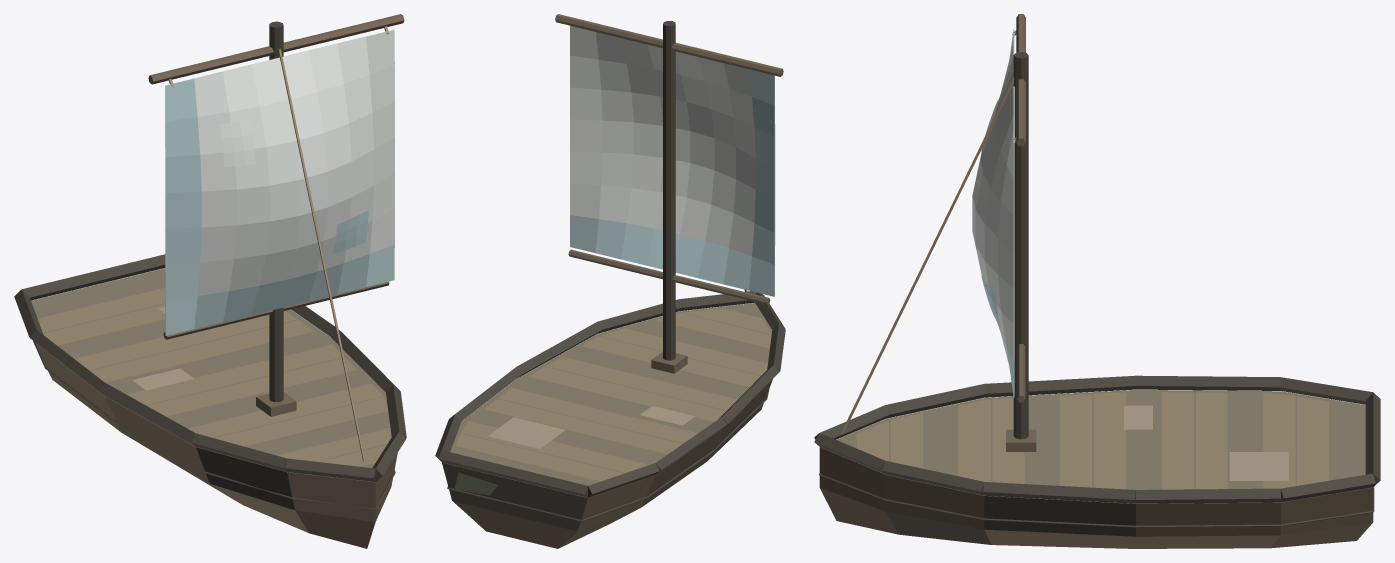
File: wind_sailboat.glb
The picture shows the model from 3 angles, left to right: view 1: azimuth 30°, elevation 25°; view 2: azimuth 150°, elevation 25°; view 3: azimuth 270°, elevation 25°; orthographic projection. The views are drawn at different scales.
Visible parts, largest first — view 1: Game_Sail, Game_Deck, Game_Hull, Game_Yards, Game_Mast, Game_Rigging; view 2: Game_Sail, Game_Deck, Game_Hull, Game_Mast, Game_Yards; view 3: Game_Hull, Game_Deck, Game_Sail, Game_Mast, Game_Yards, Game_Rigging.
Part boxes in pixels (box(x1,y1,x2,y2)): Game_Sail: box(165, 29, 394, 335); Game_Deck: box(32, 271, 391, 467); Game_Hull: box(14, 254, 406, 548); Game_Yards: box(148, 14, 404, 339); Game_Mast: box(256, 21, 296, 416); Game_Rigging: box(169, 26, 389, 461); Game_Sail: box(570, 25, 775, 296); Game_Deck: box(452, 305, 771, 485); Game_Hull: box(435, 291, 785, 548); Game_Mast: box(651, 21, 687, 373); Game_Yards: box(555, 14, 783, 304); Game_Hull: box(814, 375, 1380, 548); Game_Deck: box(839, 392, 1363, 489); Game_Sail: box(972, 29, 1014, 397); Game_Mast: box(1006, 52, 1036, 452); Game_Yards: box(1016, 14, 1025, 402); Game_Rigging: box(841, 30, 1016, 434).
Bounding box in the file's own units: 2.24 × 3.9 × 4.3.
